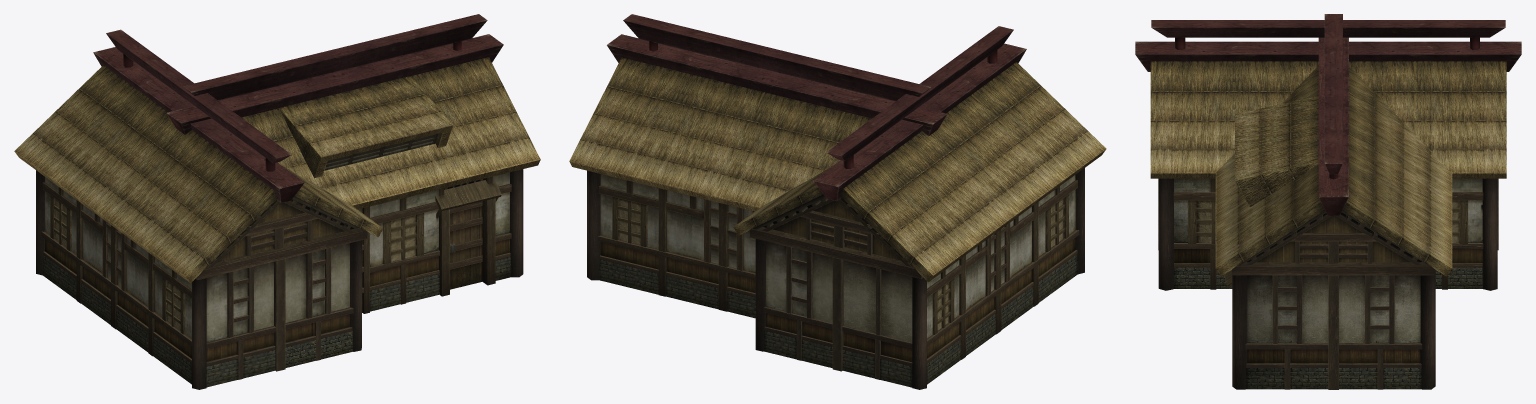
Rendered from fortms_build_normal_01.fbx.
3 views of the same model, side by side, from view 1: azimuth 30°, elevation 25°; view 2: azimuth 150°, elevation 25°; view 3: azimuth 270°, elevation 25° (orthographic). The views are drawn at different scales.
Parts seen in each view (by area): view 1: fortMS_build_normal_01; view 2: fortMS_build_normal_01; view 3: fortMS_build_normal_01.
Part boxes in pixels (bbox=[...]): fortMS_build_normal_01: bbox=[14, 14, 540, 389]; fortMS_build_normal_01: bbox=[569, 14, 1106, 389]; fortMS_build_normal_01: bbox=[1135, 14, 1521, 389].
Bounding box in the file's own units: 18.29 × 9.71 × 14.79.
